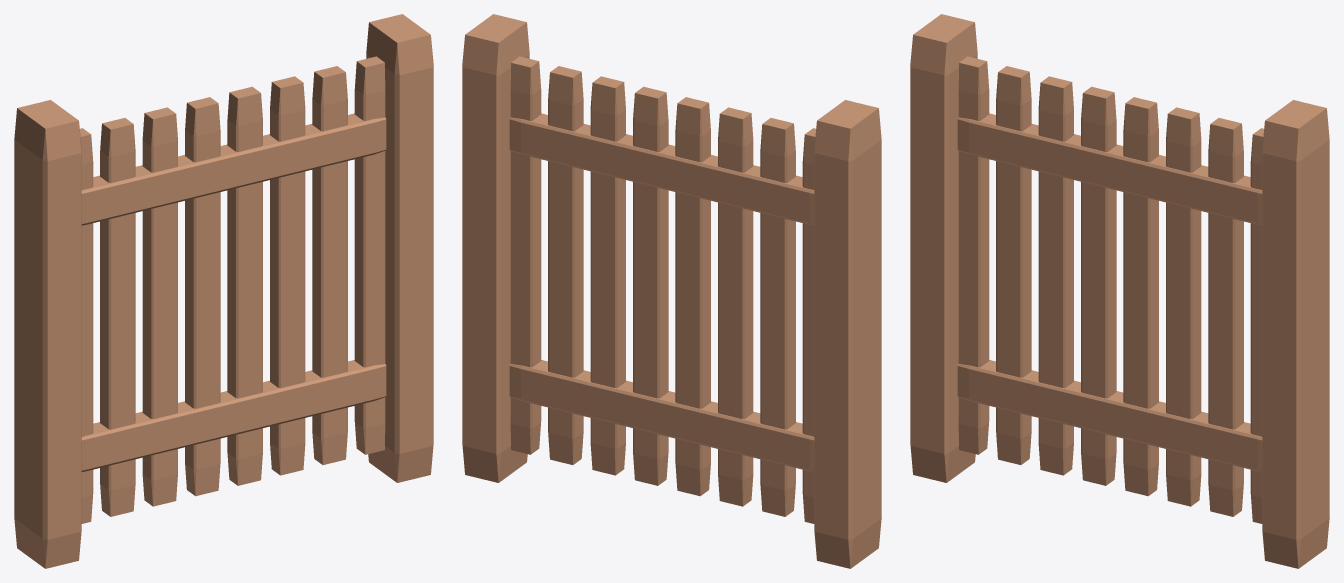
The model's file is b19_welded_mesh_industrial_gate.glb.
The picture shows the model from 3 angles, left to right: view 1: azimuth 30°, elevation 25°; view 2: azimuth 150°, elevation 25°; view 3: azimuth 330°, elevation 25°; orthographic projection.
Parts seen in each view (by area): view 1: b19_welded_mesh_industrial_gate; view 2: b19_welded_mesh_industrial_gate; view 3: b19_welded_mesh_industrial_gate.
Boxes of the visible parts, <box> form: b19_welded_mesh_industrial_gate: <box>14,14,433,568</box>; b19_welded_mesh_industrial_gate: <box>462,14,881,568</box>; b19_welded_mesh_industrial_gate: <box>910,14,1329,568</box>.
Size of the model in its own units: 2.02 by 2.17 by 0.295.
